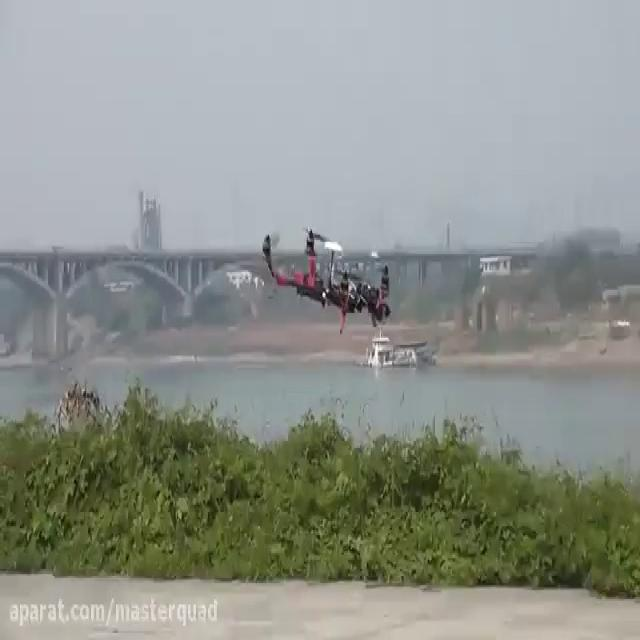drone: (258, 222, 397, 334)
